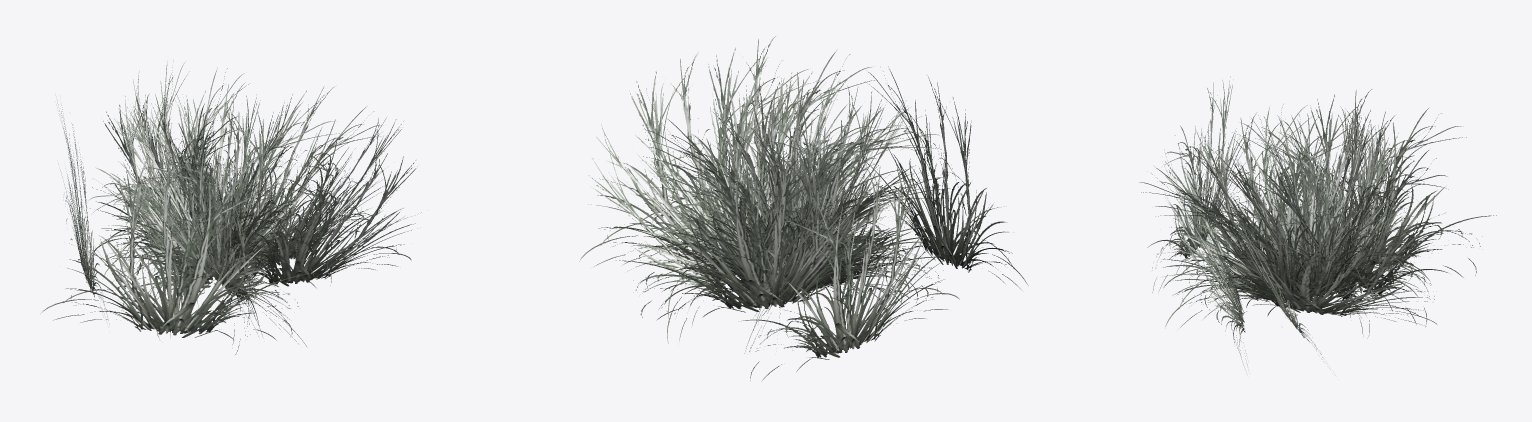
Rendered from Grass1.fbx.
The picture shows the model from 3 angles, left to right: view 1: azimuth 30°, elevation 25°; view 2: azimuth 150°, elevation 25°; view 3: azimuth 270°, elevation 25°; orthographic projection. The views are drawn at different scales.
Visible parts, largest first — view 1: polySurface125; view 2: polySurface125; view 3: polySurface125.
Boxes of the visible parts, box(x1,y1,x2,y2) form: polySurface125: box(40, 61, 421, 354); polySurface125: box(579, 36, 1028, 380); polySurface125: box(1139, 76, 1496, 374).
Bounding box in the file's own units: 0.5668 × 0.3412 × 0.4918.
